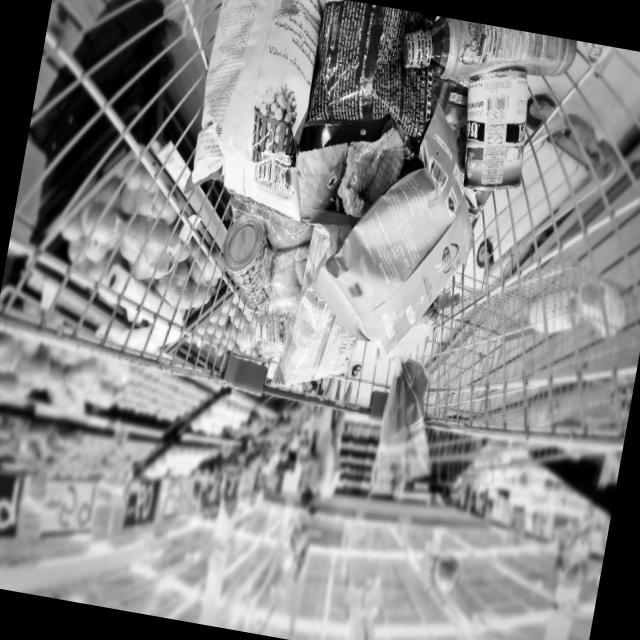bread: (362, 278, 453, 454)
